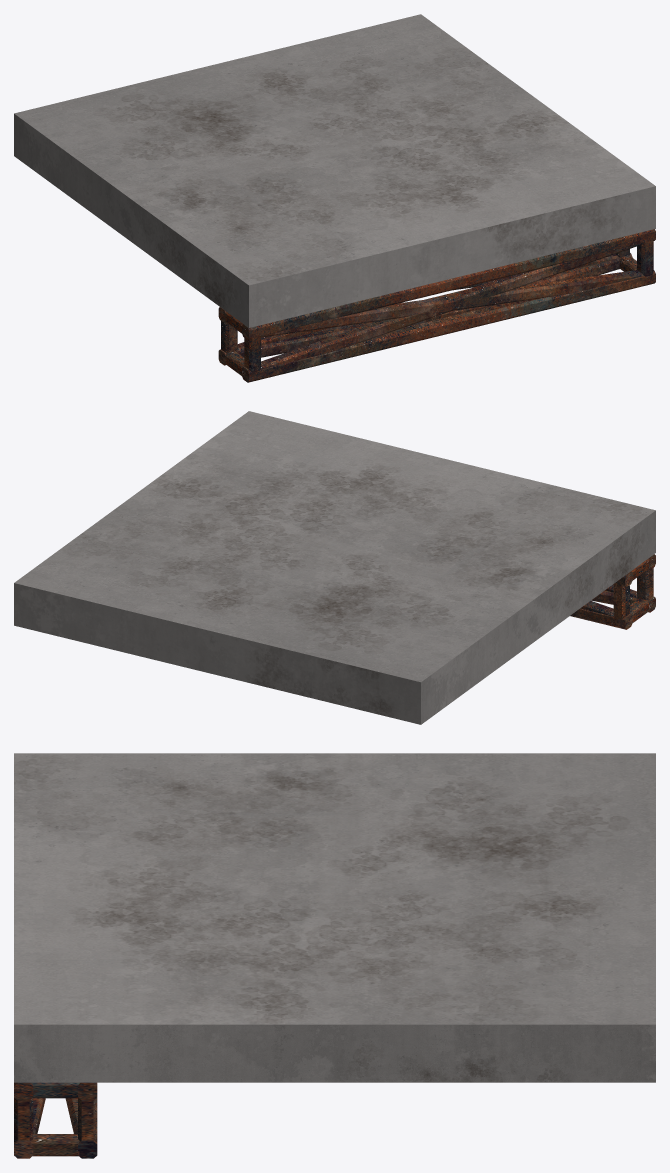
File: ceiling_normal.fbx
3 views of the same model, one above another, from view 1: azimuth 30°, elevation 25°; view 2: azimuth 150°, elevation 25°; view 3: azimuth 270°, elevation 25° (orthographic). The views are drawn at different scales.
Parts seen in each view (by area): view 1: Plane.006; view 2: Plane.006; view 3: Plane.006.
Part boxes in pixels (box(x1,y1,x2,y2)): Plane.006: box(14, 14, 655, 382); Plane.006: box(14, 411, 655, 724); Plane.006: box(14, 753, 655, 1158).
Size of the model in its own units: 400 by 92.3 by 400.
